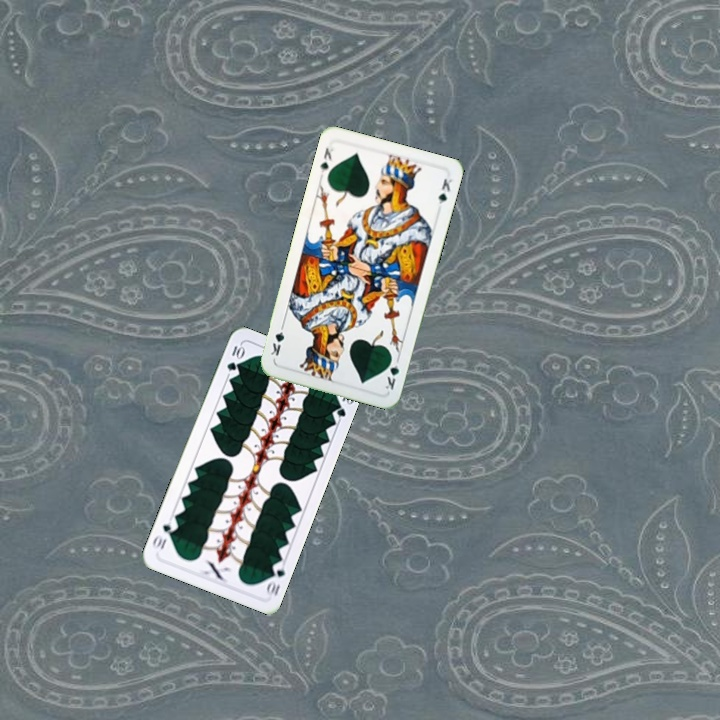G10: (262, 558, 288, 599), (223, 341, 246, 374)
GK: (381, 352, 402, 392), (316, 144, 337, 175)
